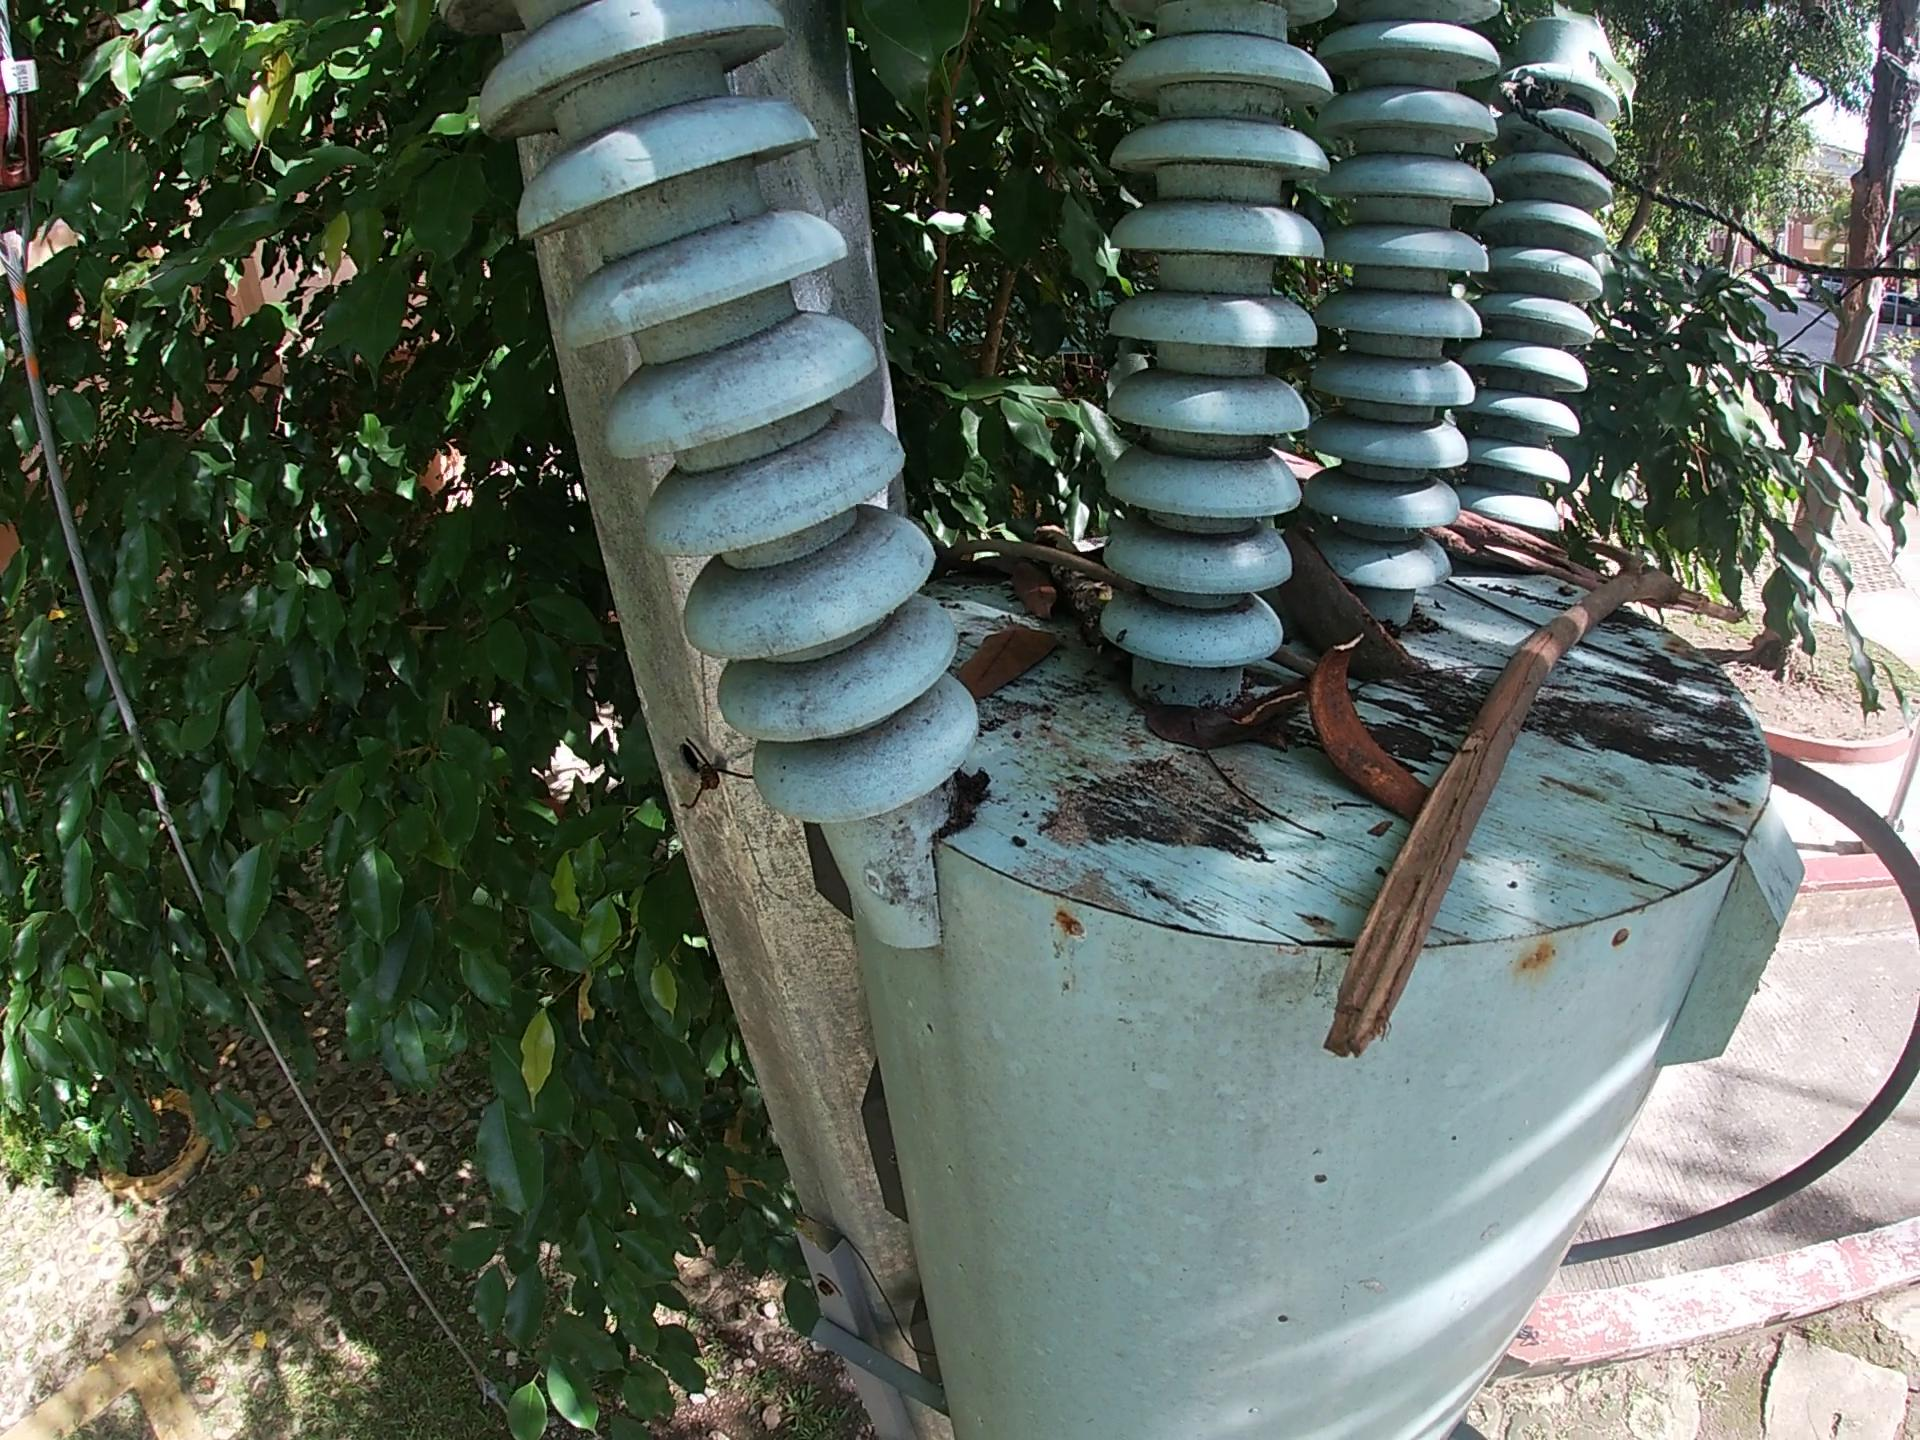leaf: (971, 632, 1073, 685), (1141, 688, 1209, 764)
mahogany fruit: (1293, 534, 1432, 675), (1320, 656, 1429, 815)
tree branch: (1318, 546, 1763, 1071), (1436, 579, 1654, 675), (1197, 749, 1330, 843), (1442, 508, 1596, 584), (1025, 511, 1102, 616), (1219, 682, 1312, 738), (949, 546, 1107, 564), (1271, 644, 1311, 679), (1284, 452, 1330, 476)
